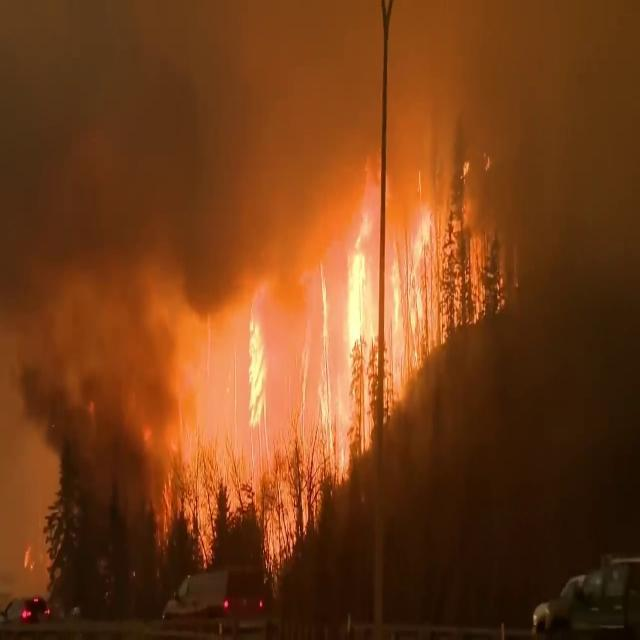Fire: (272, 119, 498, 498), (244, 306, 272, 441)
Smoke: (0, 0, 238, 574), (458, 3, 640, 436)
